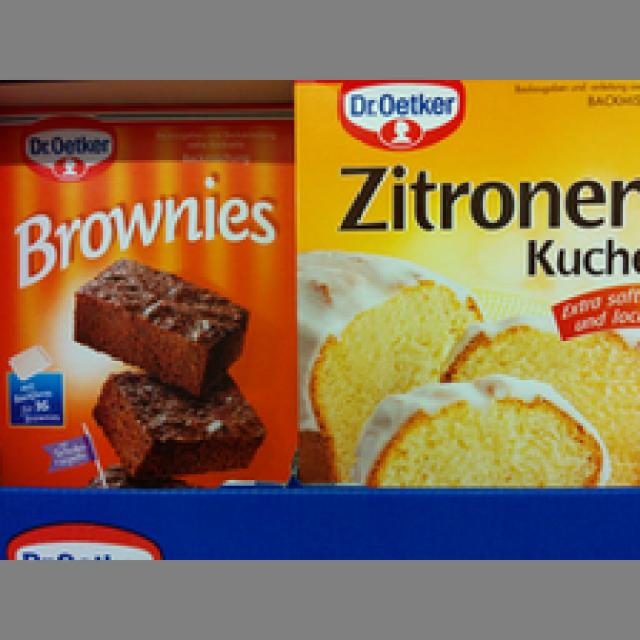groceries: (286, 77, 637, 483), (0, 100, 294, 485)
